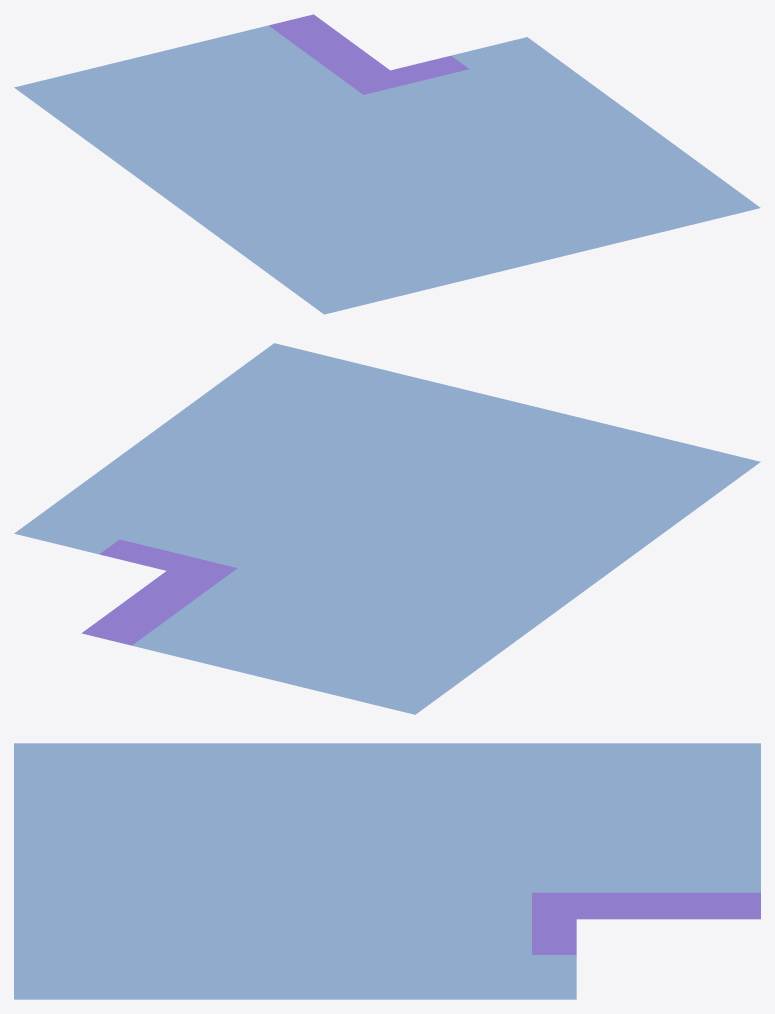
File: outerFloor.fbx
The picture shows the model from 3 angles, top to bottom: view 1: azimuth 30°, elevation 25°; view 2: azimuth 150°, elevation 25°; view 3: azimuth 270°, elevation 25°; orthographic projection. The views are drawn at different scales.
Visible parts, largest first — view 1: outerFloor; view 2: outerFloor; view 3: outerFloor.
Part boxes in pixels (box(x1,y1,x2,y2)): outerFloor: box(14, 14, 760, 314); outerFloor: box(14, 343, 760, 714); outerFloor: box(14, 743, 760, 999).
Size of the model in its own units: 12843 by 0 by 15800.
